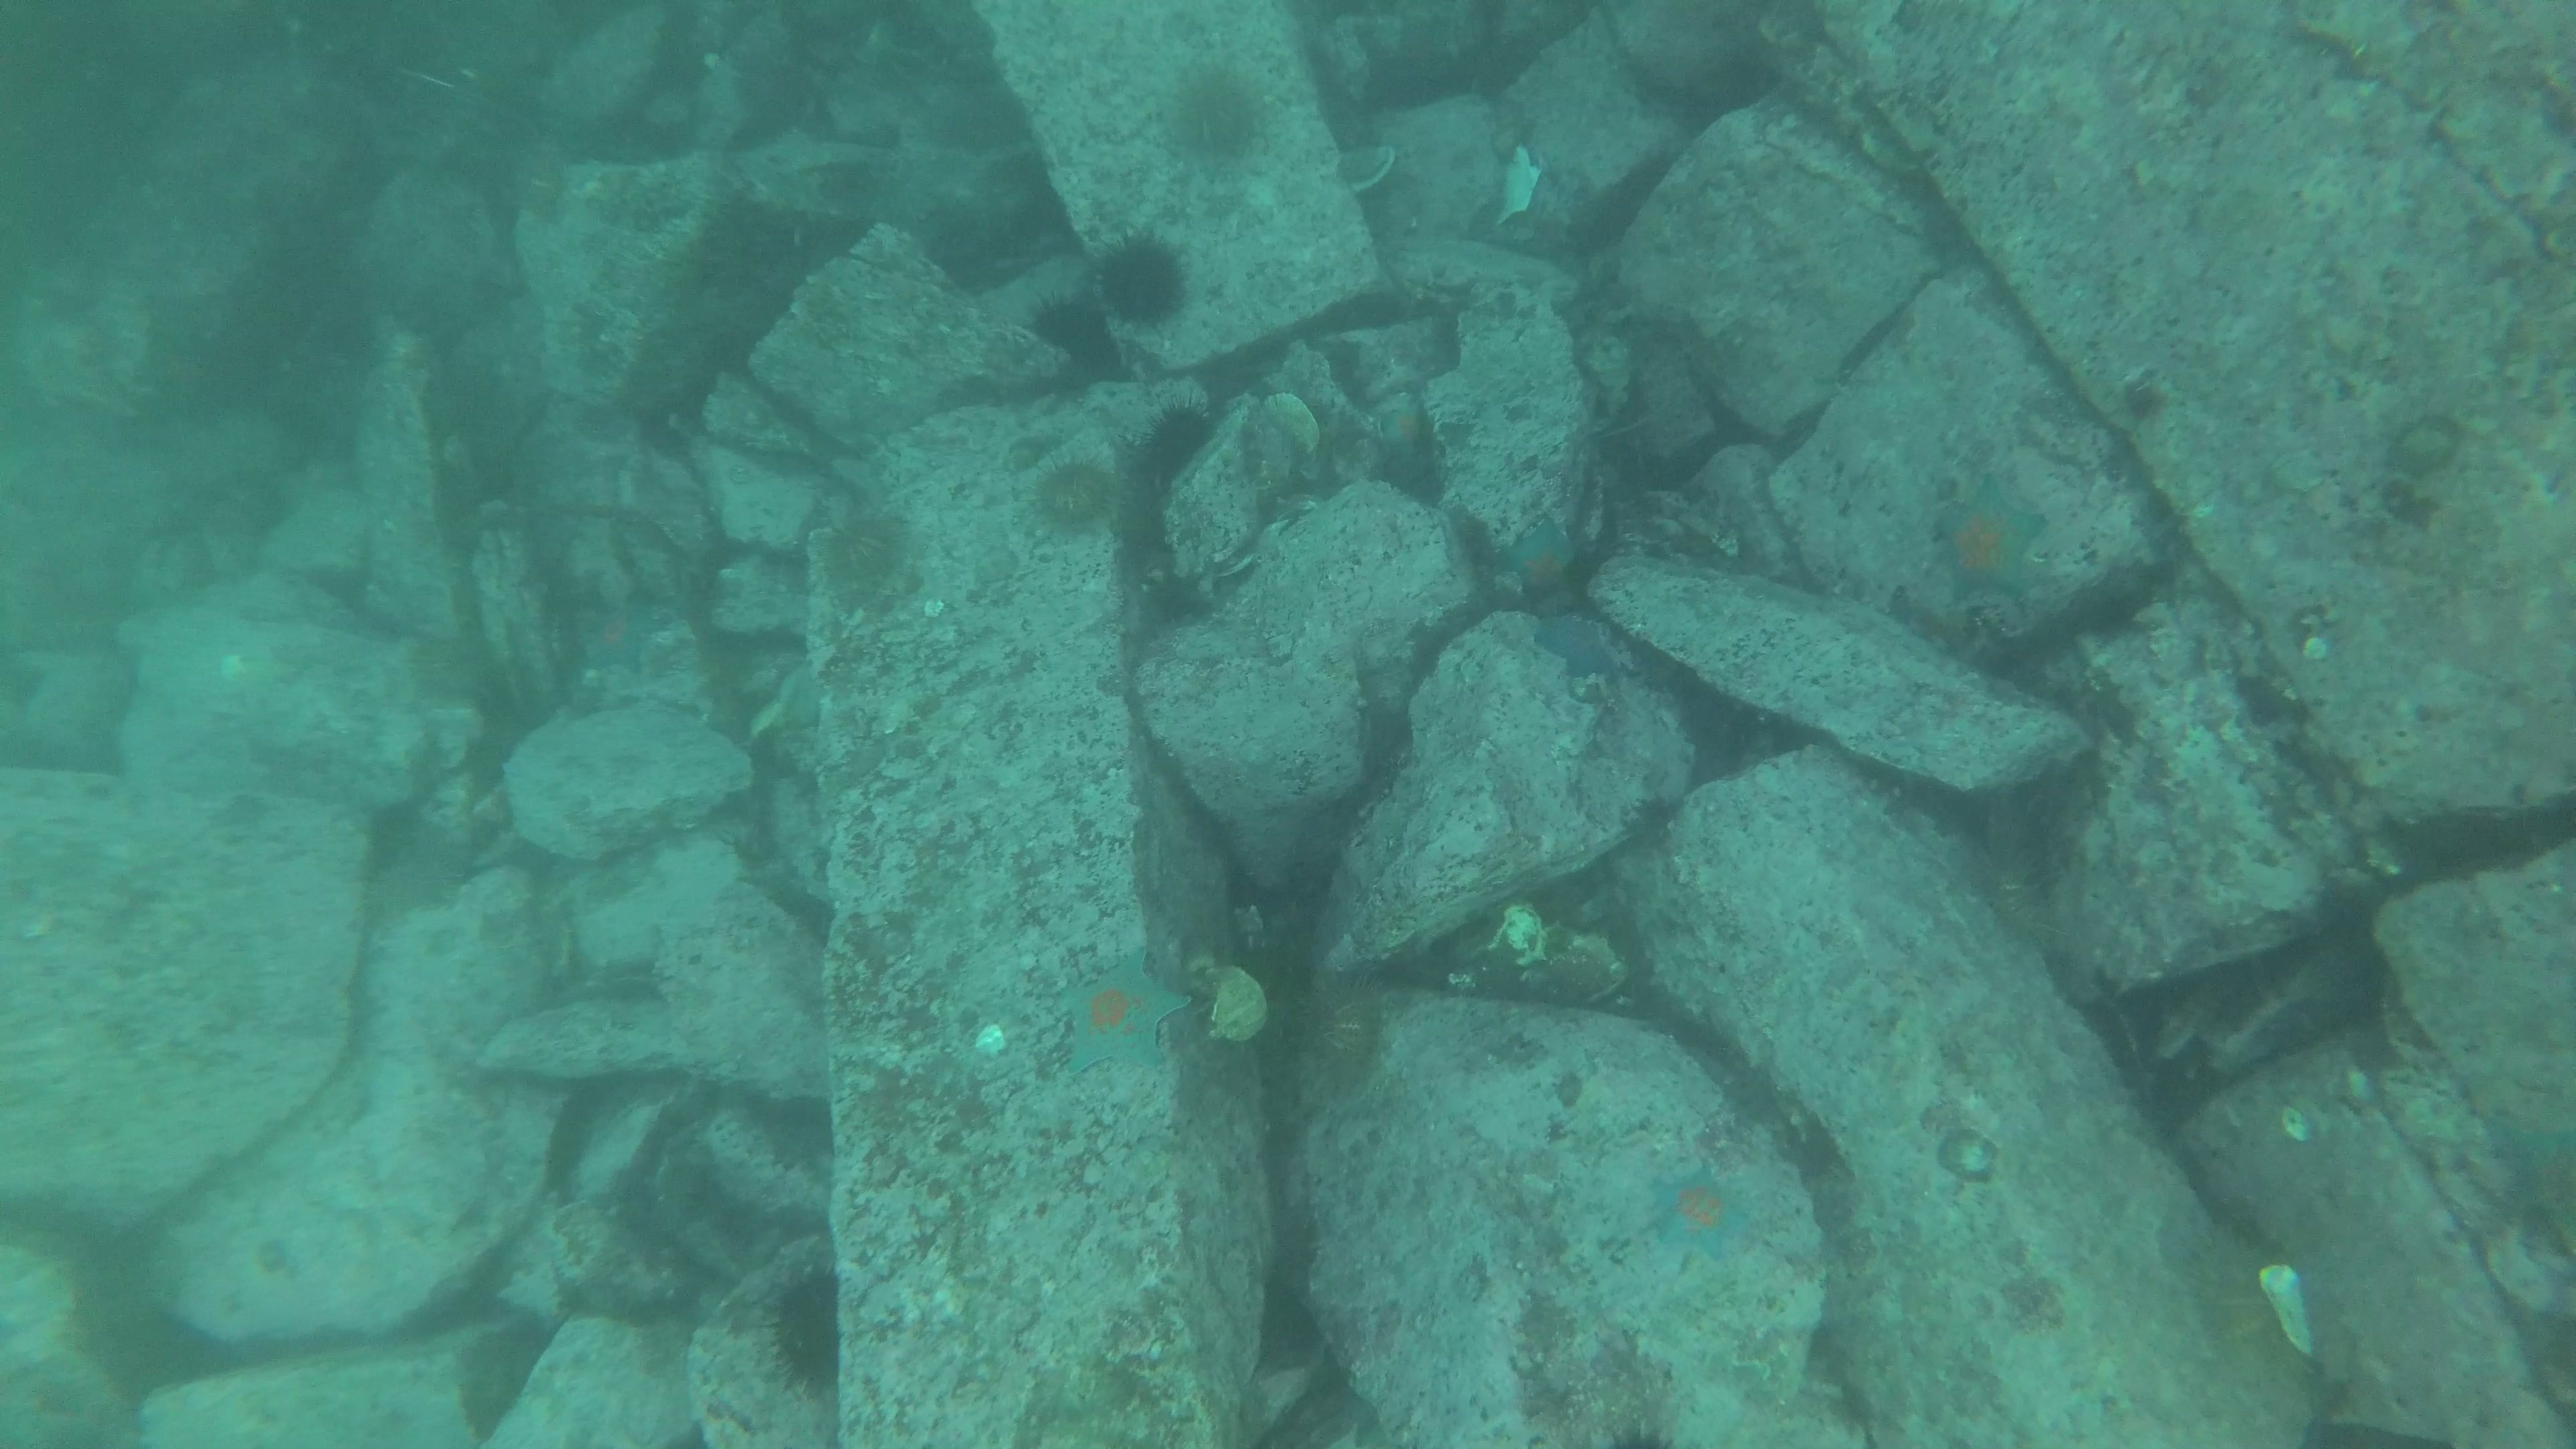echinus: (1292, 971, 1396, 1109), (805, 490, 922, 612), (757, 1256, 855, 1401), (1157, 58, 1276, 170), (1088, 226, 1196, 333), (1969, 844, 2065, 950), (1024, 287, 1129, 380), (1021, 449, 1118, 541), (1132, 395, 1223, 488)
starfish: (1046, 945, 1194, 1081), (1921, 471, 2054, 609), (1640, 1155, 1766, 1269), (1484, 504, 1594, 614), (564, 586, 674, 685), (1527, 605, 1629, 688)
